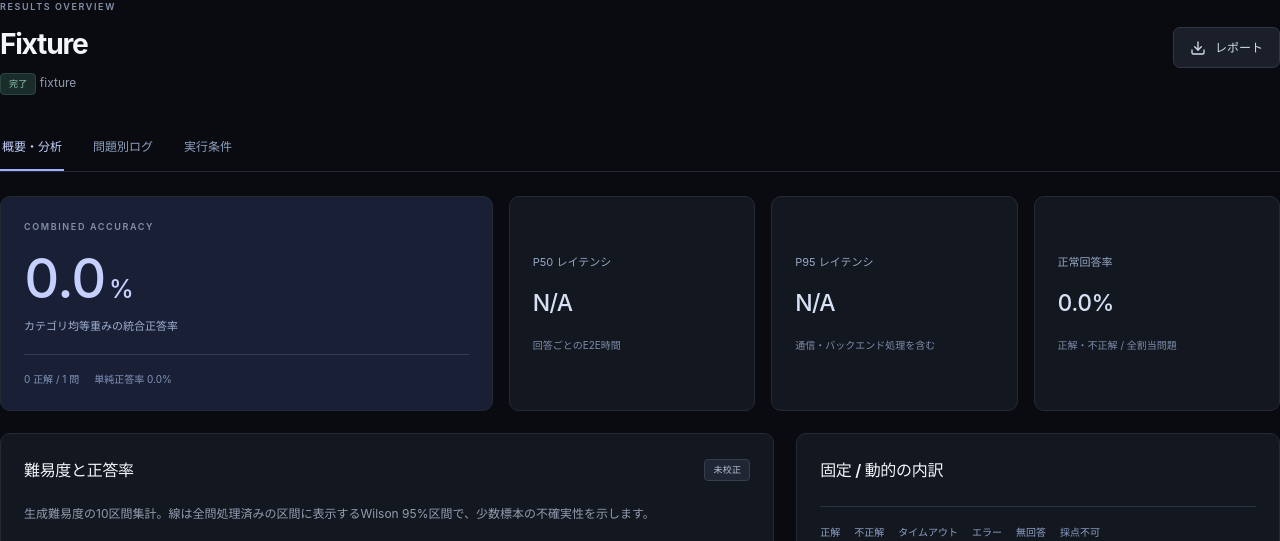
requests bounded filtered log pages and ignores late pages after a filter change
Click the tab "問題別ログ".
click(123, 148)  # box top-left (91, 125), bottom-right (155, 171)
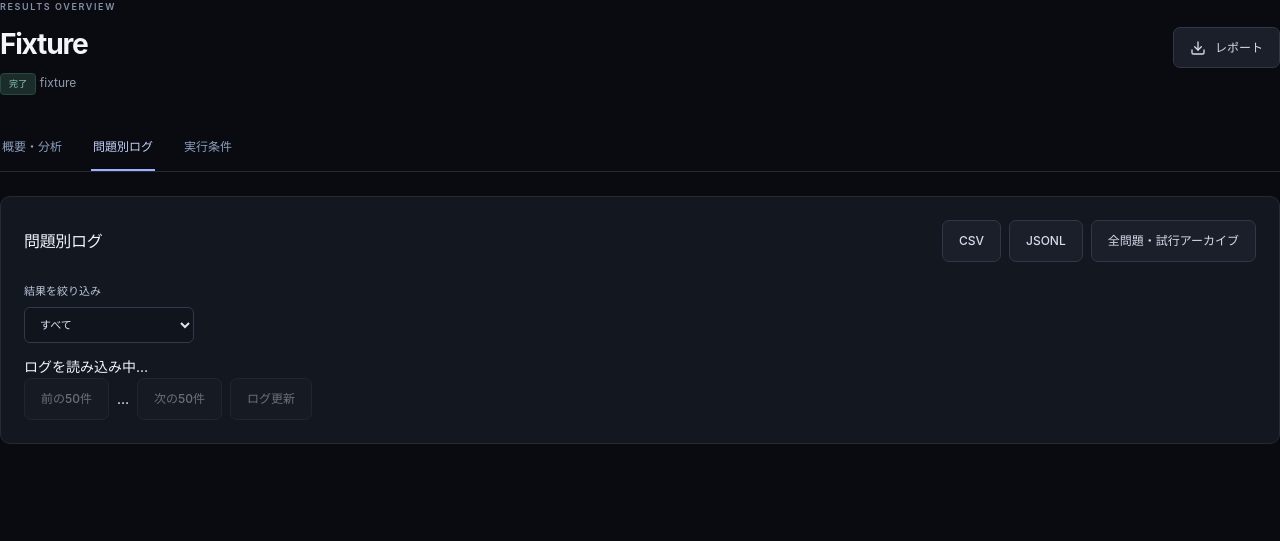
Select "無回答" in the dropdown labelled "結果を絞り込み" at (109, 325), box top-left (24, 307), bottom-right (194, 343)
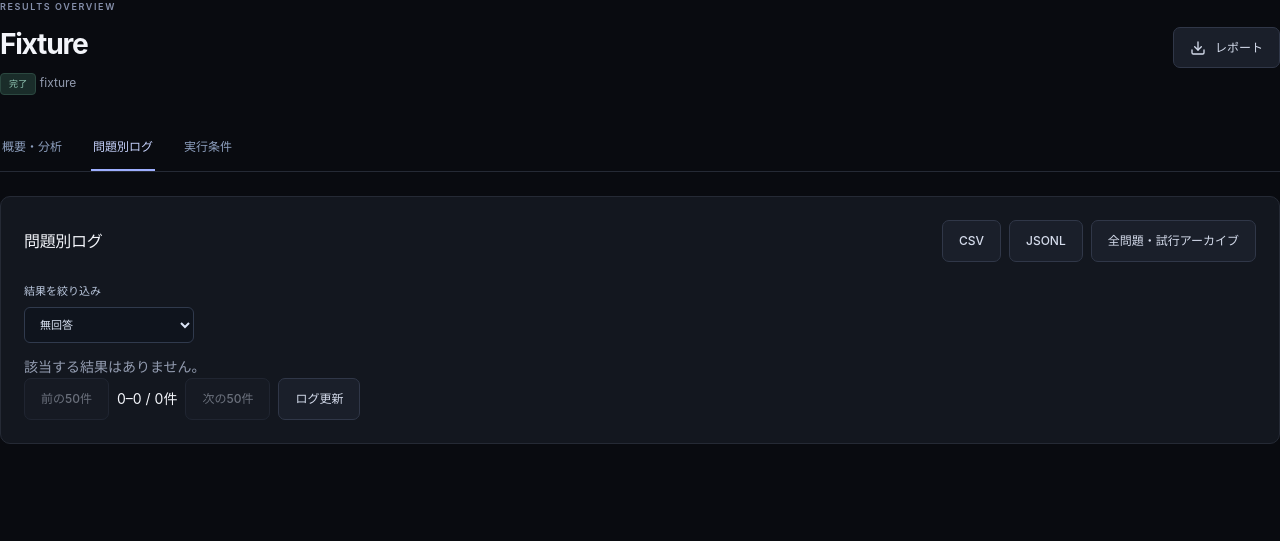
expect the button "次の50件" is disabled: met, box top-left (185, 378), bottom-right (270, 420)
expect the text "0–0 / 0件" is shown: met, box top-left (117, 387), bottom-right (177, 410)
expect the text "該当する結果はありません。" is shown: met, box top-left (24, 358), bottom-right (206, 375)
